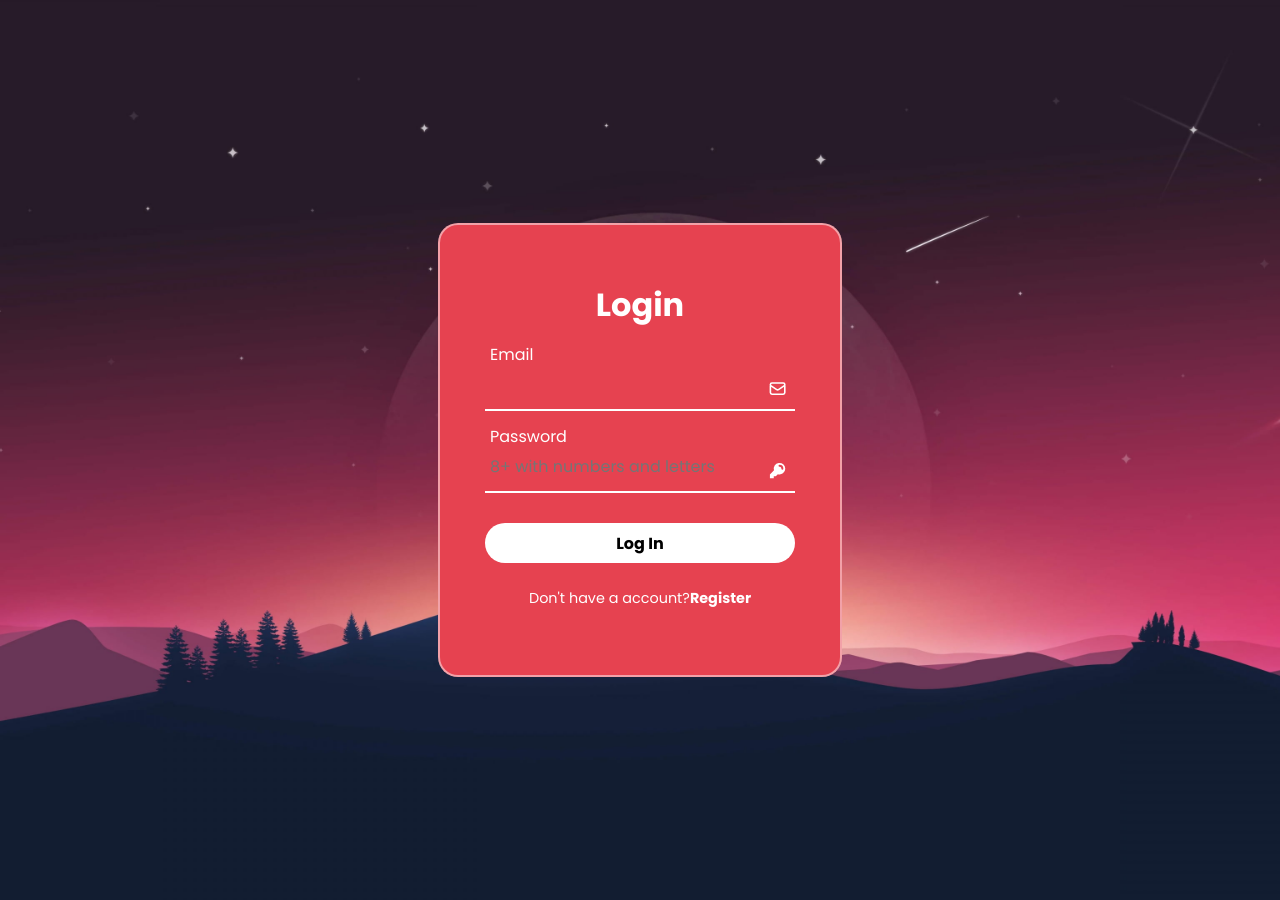
Test Login component › displays an error message when email or password is missing
The width and height of the screenshot is (1280, 900).
Click the button "Log In". click: point(640, 543)
box: [485,523,795,563]
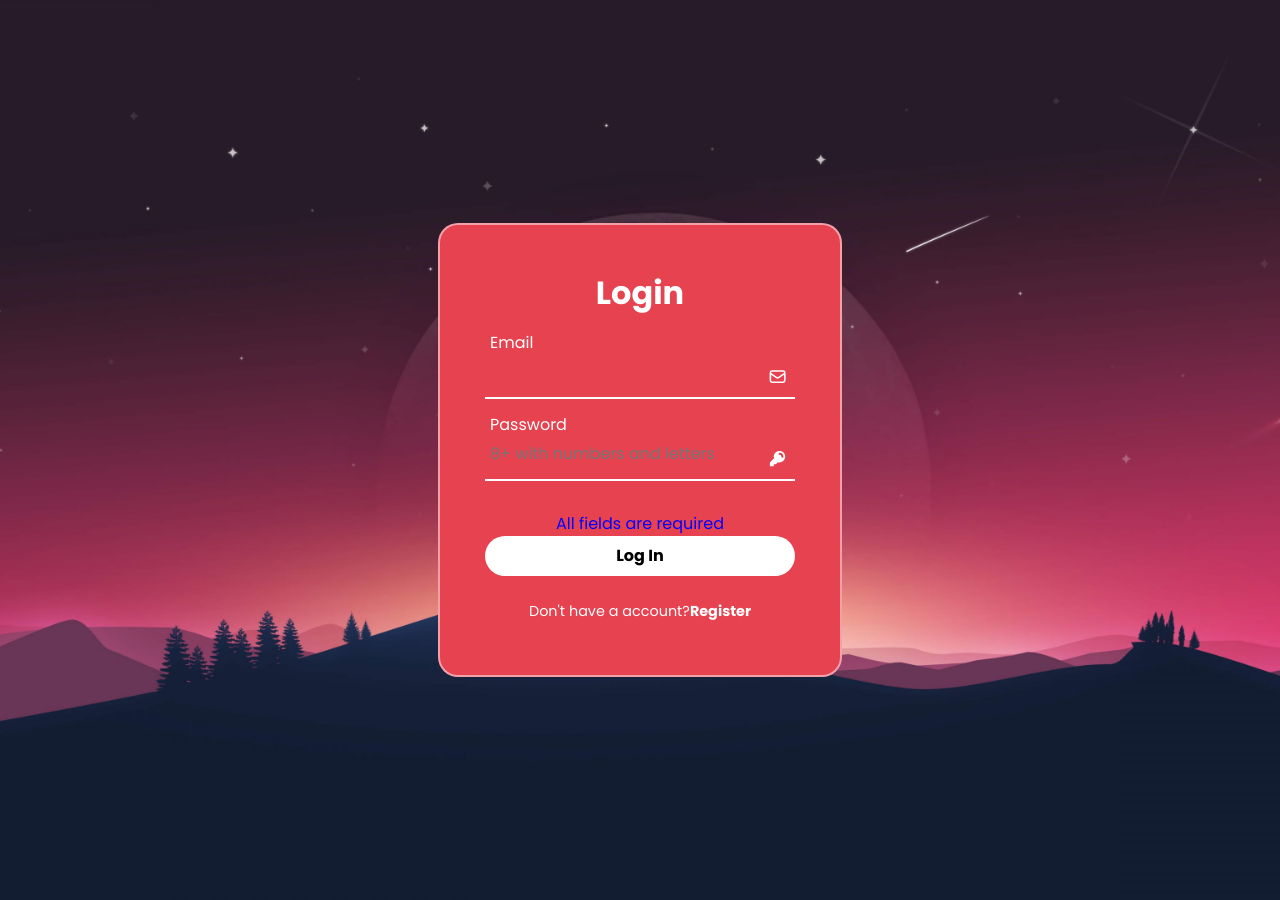
Expected: the text "All fields are required" is shown, [556,510,724,536]
